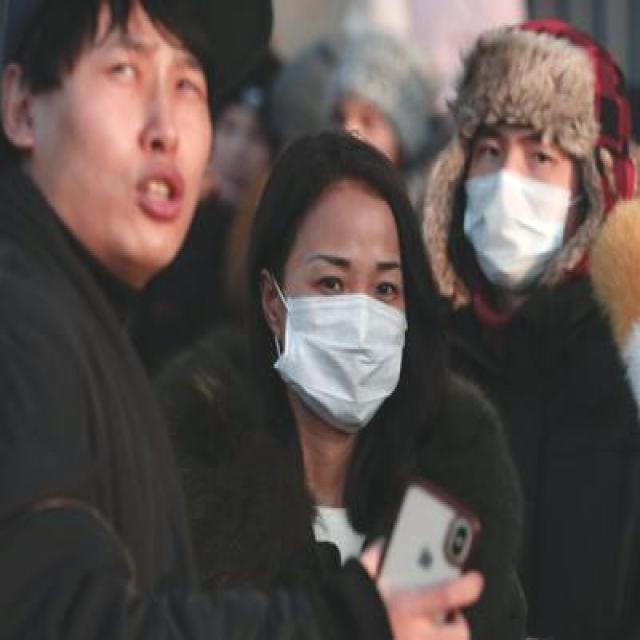face_mask: (275, 241, 410, 435), (462, 123, 582, 284)
face_nomask: (34, 32, 212, 280)
head_nohelmet: (267, 104, 389, 238), (448, 18, 587, 128)
person: (0, 2, 245, 640), (165, 146, 448, 640), (448, 48, 634, 640)
